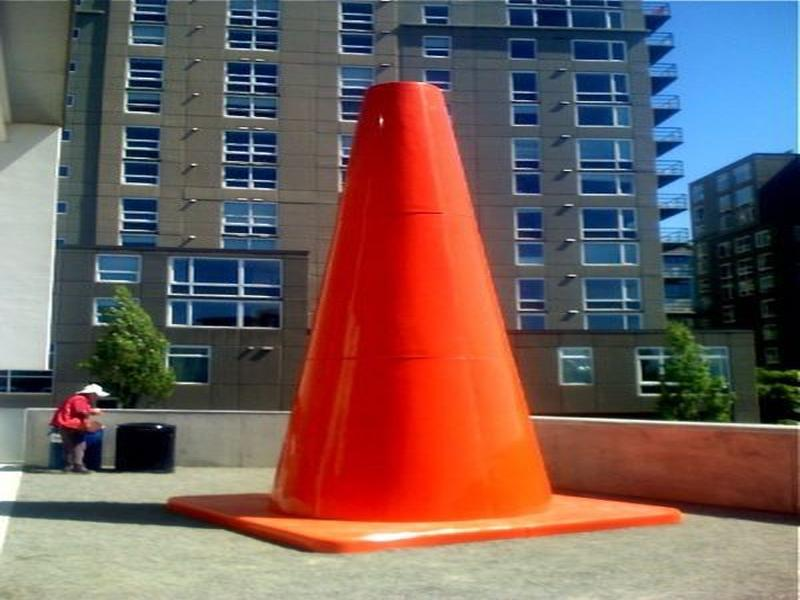Cone1: (164, 80, 684, 556)
